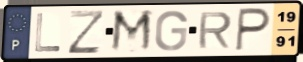G: (153, 9, 190, 53)
L: (33, 12, 62, 53)
M: (108, 8, 155, 54)
P: (233, 7, 273, 53)
R: (196, 10, 234, 50)
Z: (66, 8, 107, 56)
